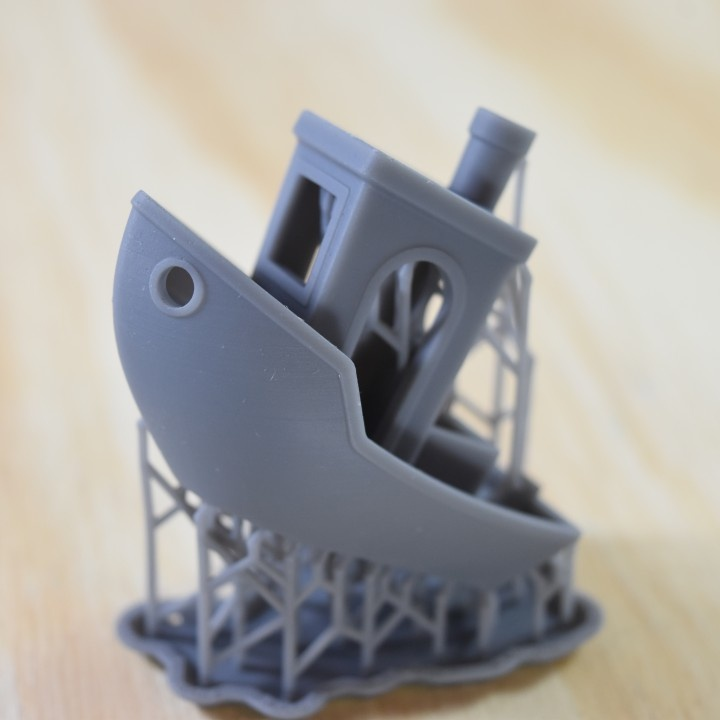3d print: (114, 110, 599, 717)
